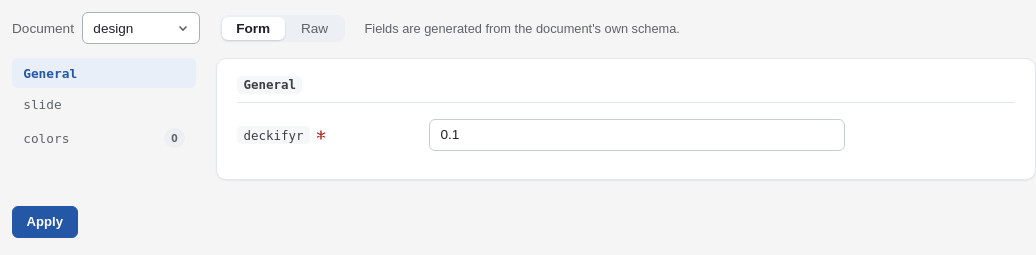
Test case: ConfigEditor › flags unapplied edits and Revert restores the loaded document
This screenshot has width=1036, height=255.
Expected: the text "Unapplied changes" is not shown
Replace the text in the field showing "0.1" with "0.2" at (637, 135), box left=429, top=119, right=845, bottom=151
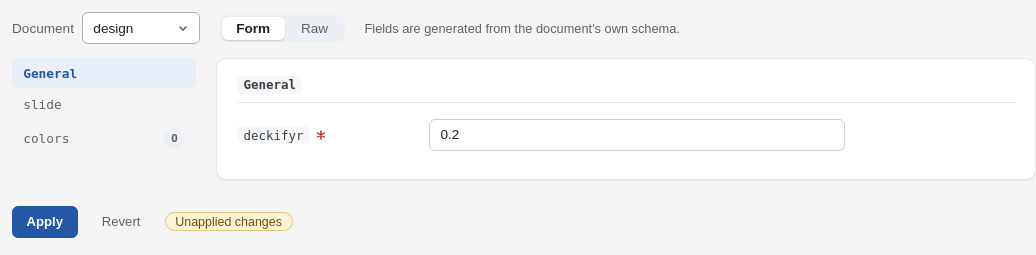
Expected: the text "Unapplied changes" is shown, left=165, top=212, right=293, bottom=231
Click the button "Revert" at (121, 222), box left=87, top=206, right=155, bottom=238
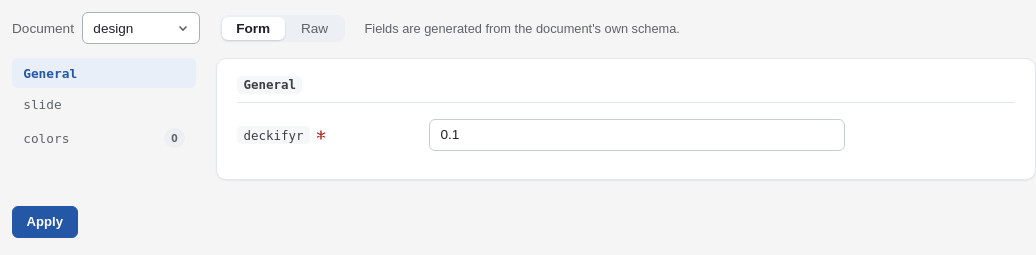
Expected: the field showing "0.1" is shown, left=429, top=119, right=845, bottom=151
Expected: the text "Unapplied changes" is gone
